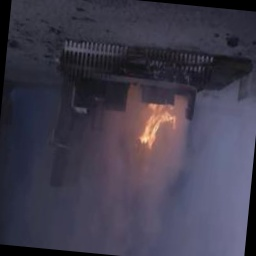fire: (126, 85, 191, 158)
smoke: (0, 144, 253, 256)
